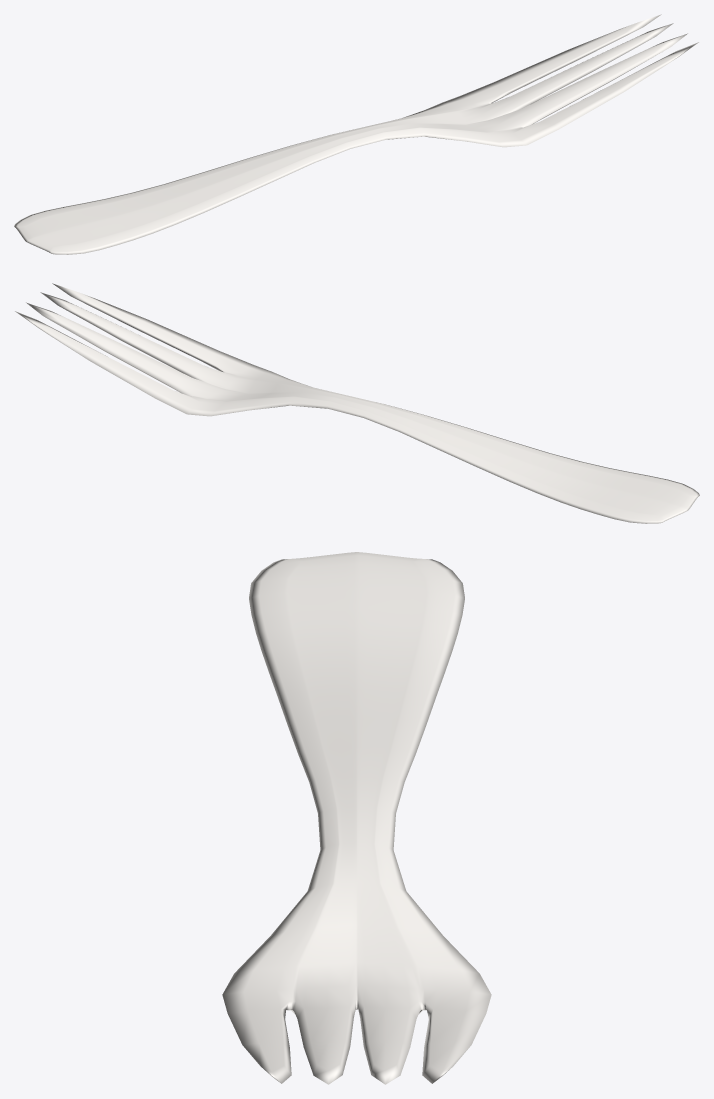
The model's file is Fork.fbx.
3 views of the same model, one above another, from view 1: azimuth 30°, elevation 25°; view 2: azimuth 150°, elevation 25°; view 3: azimuth 270°, elevation 25° (orthographic). The views are drawn at different scales.
Parts seen in each view (by area): view 1: Fork; view 2: Fork; view 3: Fork.
Part boxes in pixels (x1,y1,x2,y2): Fork: [14, 14, 698, 254]; Fork: [15, 283, 699, 523]; Fork: [222, 552, 491, 1084].
Size of the model in its own units: 9.39 by 0.789 by 1.67.
